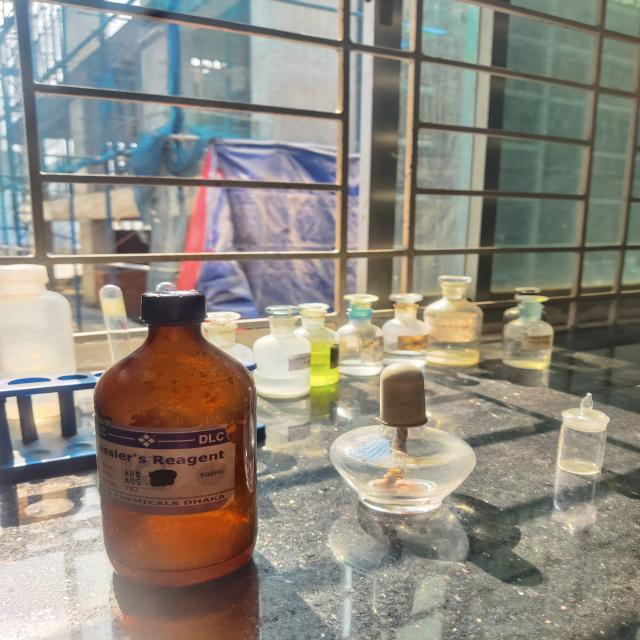Nessler_Reagent_Bottle: (83, 286, 282, 611)
Spirit_Lamp: (327, 357, 493, 523)
Weighing_Bottle: (547, 390, 615, 492)
